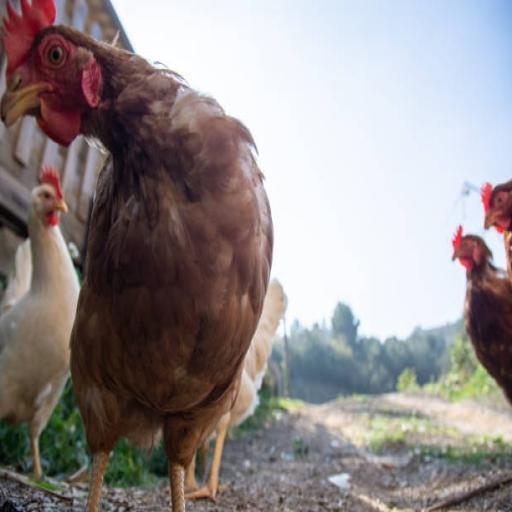healthy: (0, 0, 109, 136), (472, 160, 512, 238), (28, 166, 74, 230)
